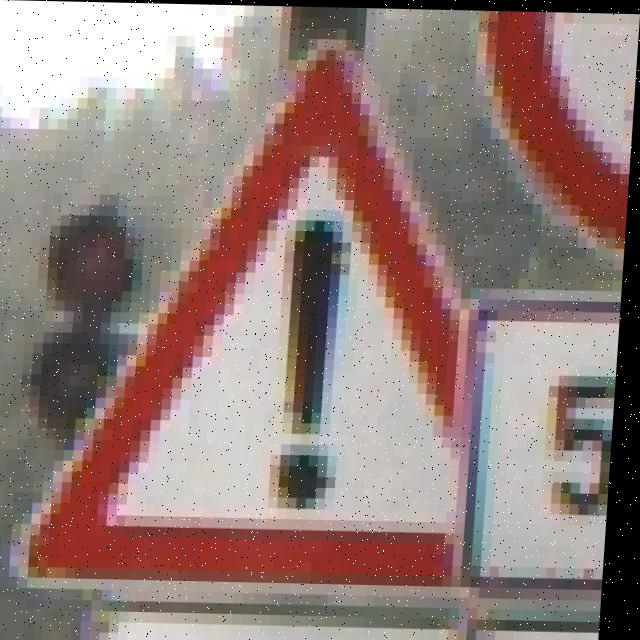speed_limit_50: (488, 300, 621, 601)
warning: (73, 64, 506, 589)
